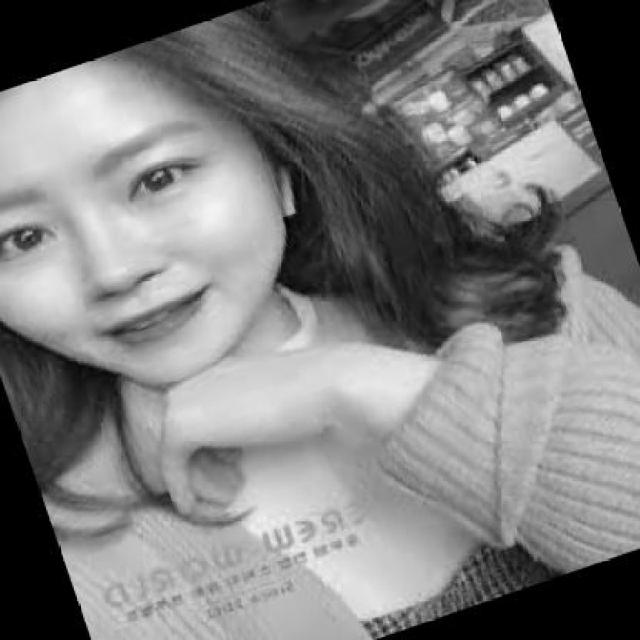earphone: (251, 154, 316, 234)
